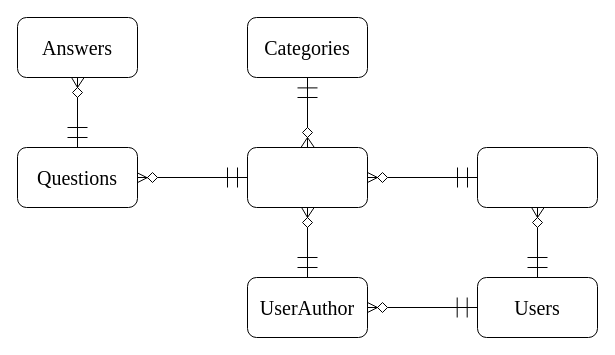
Image size: 615x355. Some labels were removed from this diagram. The shapes that lost their labels are listed below. From the top down, each one's centre as x and y in pixels, then its label:
At point (307, 177): "Tests".
At point (537, 177): "UsersTests".
